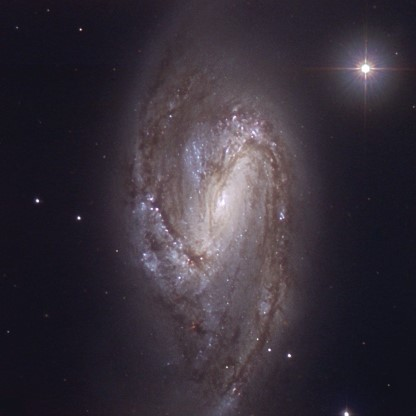Messier 66: (92, 41, 384, 402)
